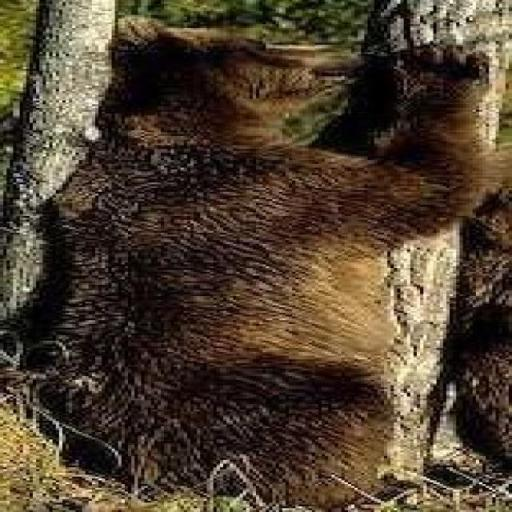Bear: (0, 14, 509, 508)
